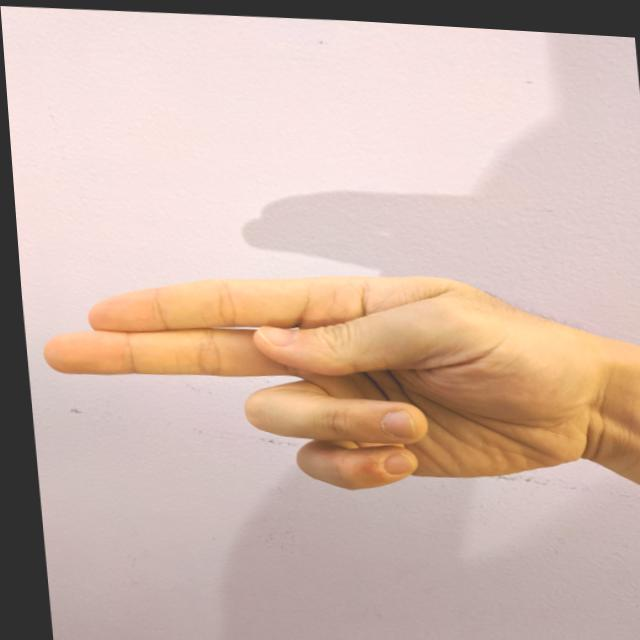H: (17, 239, 603, 509)
